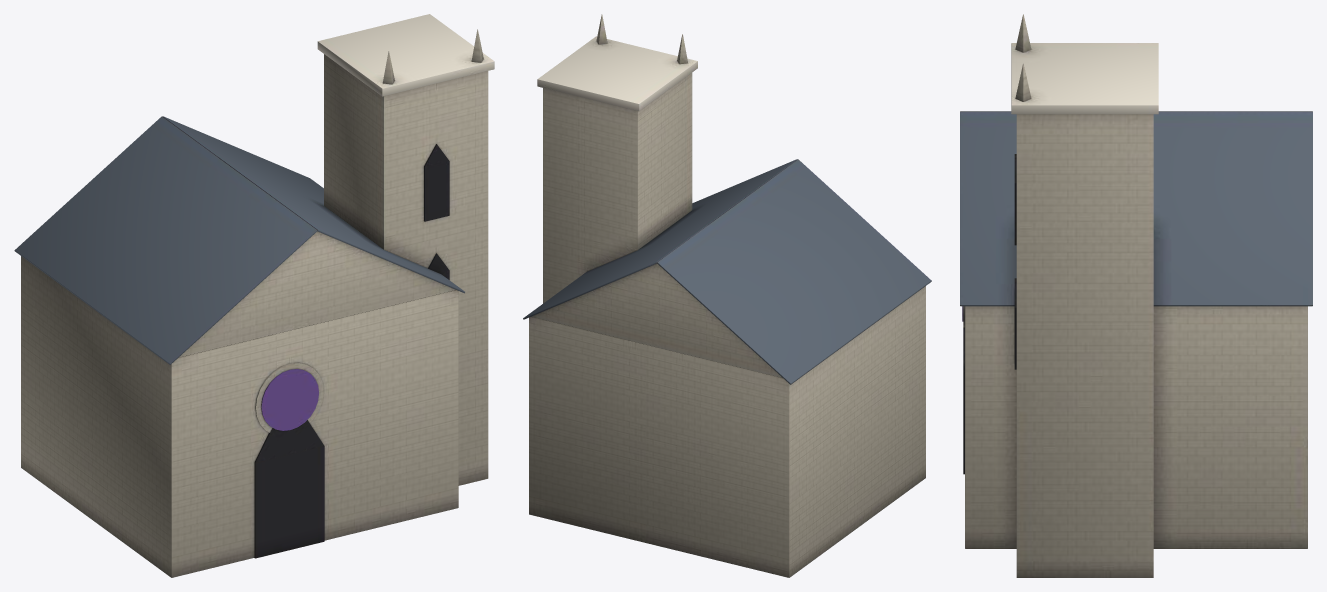
The model's file is santo_tomas.glb.
3 views of the same model, side by side, from view 1: azimuth 30°, elevation 25°; view 2: azimuth 150°, elevation 25°; view 3: azimuth 270°, elevation 25° (orthographic). The views are drawn at different scales.
Visible parts, largest first — view 1: santo_tomas; view 2: santo_tomas; view 3: santo_tomas.
Part boxes in pixels (bbox=[...]): santo_tomas: bbox=[14, 14, 494, 577]; santo_tomas: bbox=[523, 14, 931, 577]; santo_tomas: bbox=[960, 14, 1312, 577].
Size of the model in its own units: 26.62 by 32.88 by 20.6.
1 material, 1 textured.
